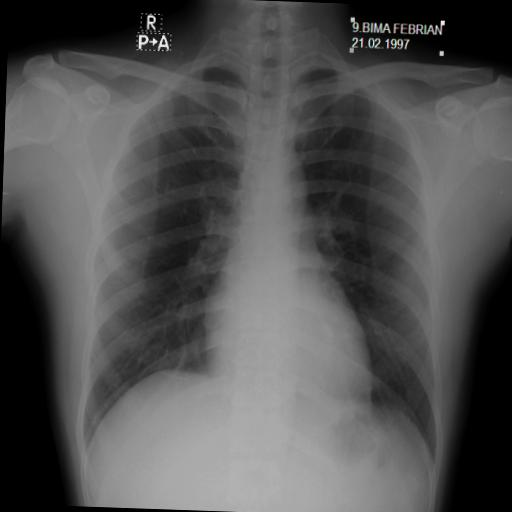normal: (68, 20, 460, 482)
